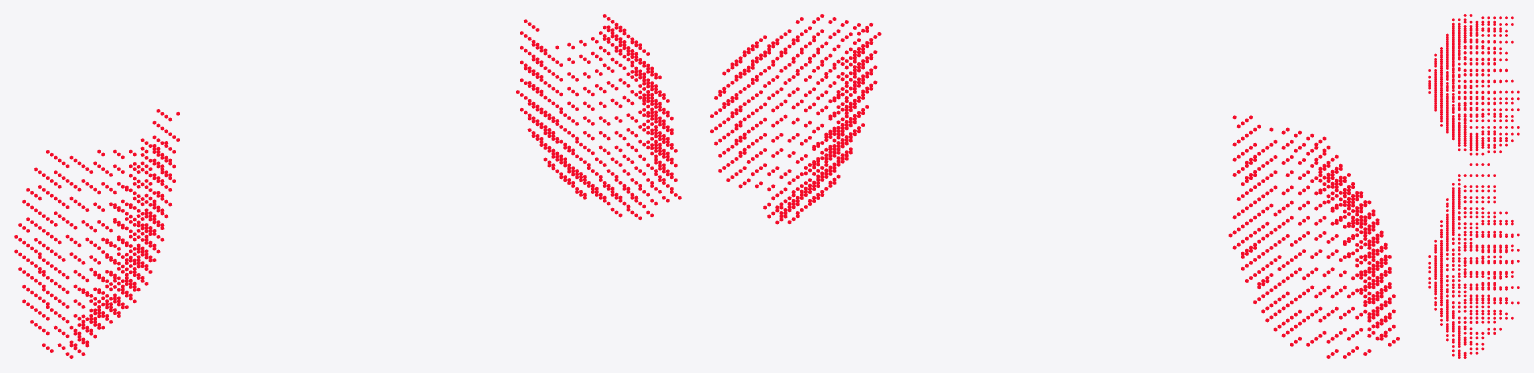
Rendered from biceps.glb.
3 renders of one model, left to right at view 1: azimuth 30°, elevation 25°; view 2: azimuth 150°, elevation 25°; view 3: azimuth 270°, elevation 25°, orthographic. The views are drawn at different scales.
Parts seen in each view (by area): view 1: Biceps; view 2: Biceps; view 3: Biceps.
Boxes of the visible parts, <box> form: Biceps: <box>14,14,681,358</box>; Biceps: <box>710,14,1399,358</box>; Biceps: <box>1428,14,1519,358</box>.
Bounding box in the file's own units: 1.57 × 0.4966 × 0.2621.
